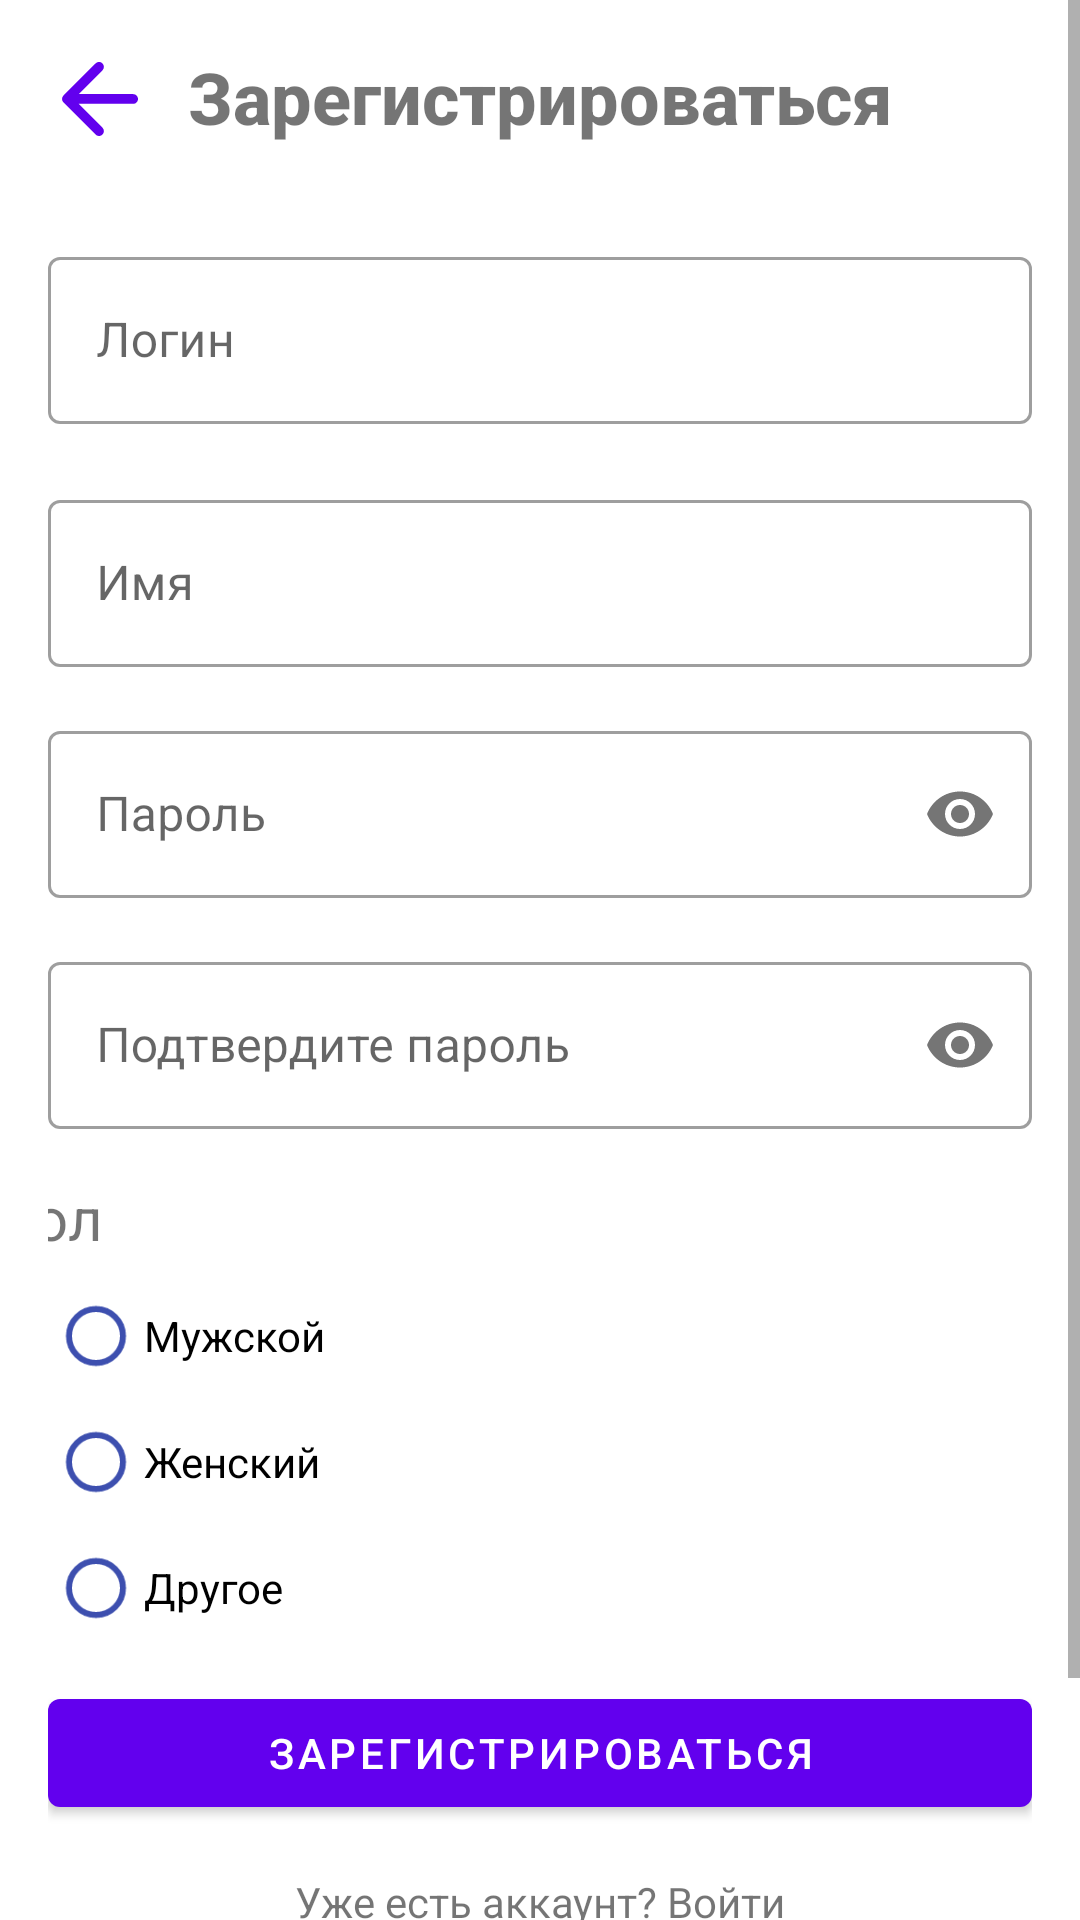

Point at icon controls on the screen. Image size 1080w x 1920h, points as (x,y).
back: (100,99)
